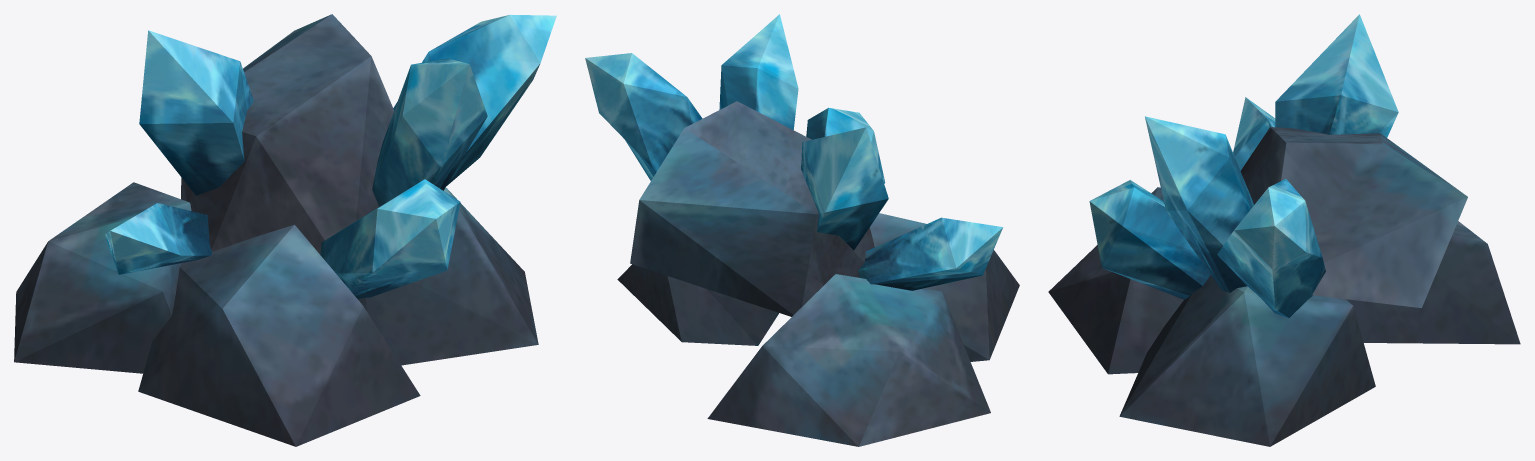
The model's file is mine_ember_ore04.fbx.
3 renders of one model, left to right at view 1: azimuth 30°, elevation 25°; view 2: azimuth 150°, elevation 25°; view 3: azimuth 270°, elevation 25°, orthographic. The views are drawn at different scales.
Visible parts, largest first — view 1: obj0.025; view 2: obj0.025; view 3: obj0.025.
Part boxes in pixels (x1=…): obj0.025: x1=14, y1=14, x2=556, y2=446; obj0.025: x1=585, y1=14, x2=1019, y2=446; obj0.025: x1=1048, y1=14, x2=1520, y2=446.
Bounding box in the file's own units: 1.85 × 1.07 × 1.56.
